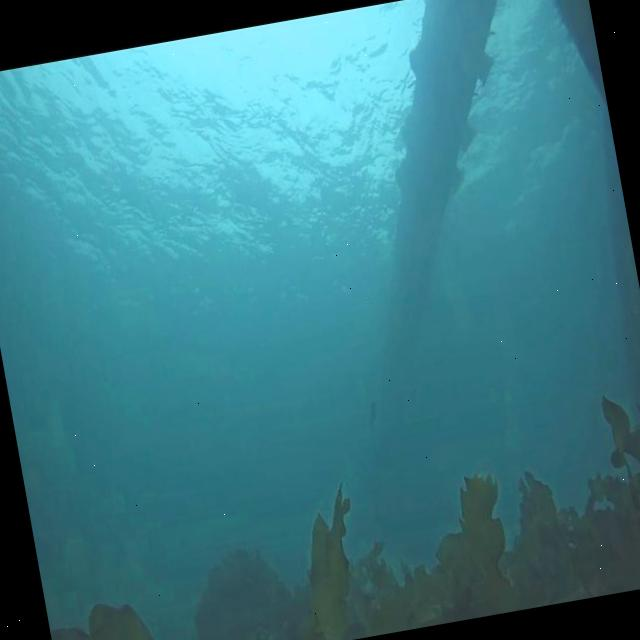fish: (361, 392, 383, 434)
